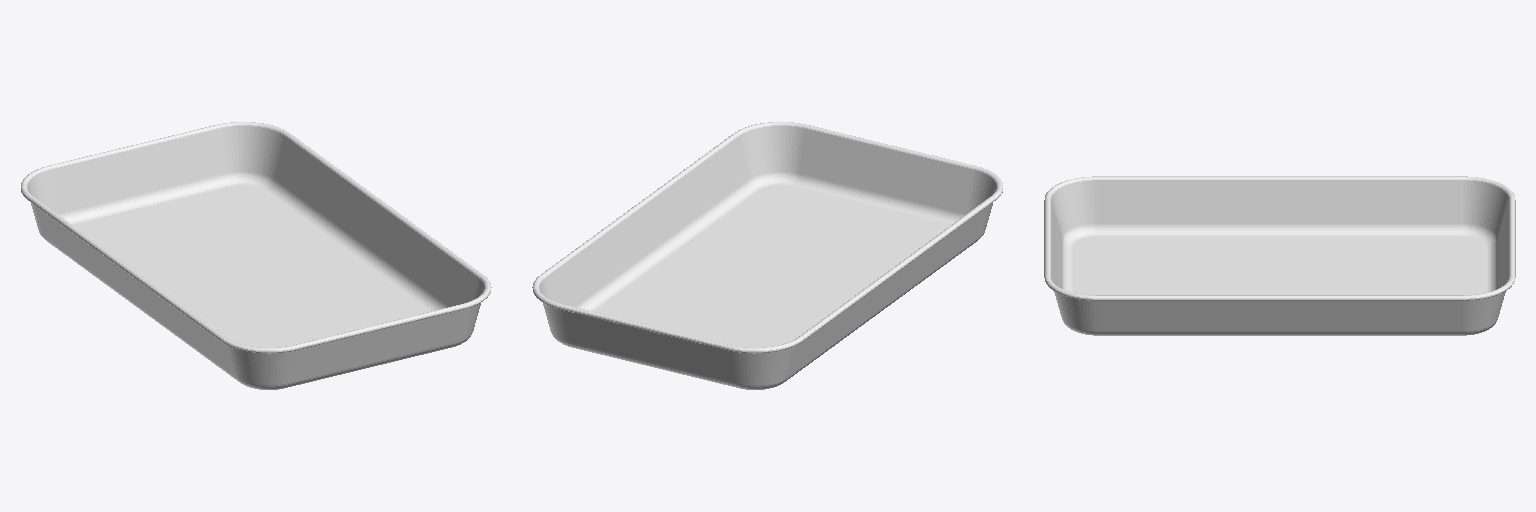
The robot description file, URDF, robot "tray":
<?xml version="0.0" ?>
<robot name="tray">
    <material name="white">
        <color rgba="0.95 0.95 0.95 1"/>
    </material>
    <material name="dummy">
        <color rgba="0 0 0 0"/>
    </material>

    <link name="baseLink">
        <contact>
            <lateral_friction value="1.0"/>
        </contact>
        <inertial>
            <origin rpy="0 0 0" xyz="0 0 0.000181"/>
            <mass value=".0"/>
            <inertia ixx="0" ixy="0" ixz="0" iyy="0" iyz="0" izz="0"/>
        </inertial>
        <visual>
            <origin rpy="0 0 0" xyz="0 0 0"/>
            <geometry>
                <mesh filename="meshes/tray.obj" scale="1 1 1"/>
            </geometry>
            <material name="white"/>
        </visual>
        <collision>
            <origin rpy="0 0 0" xyz="0 0 0.000181"/>
            <geometry>
                <box size="0.120 0.196 0.000362"/>
            </geometry>
        </collision>
    </link>

    <link name="border_1">
        <inertial>
            <origin rpy="0 0 0" xyz="0 0 0"/>
            <mass value=".0"/>
            <inertia ixx="0" ixy="0" ixz="0" iyy="0" iyz="0" izz="0"/>
        </inertial>
        <visual>
            <geometry>
                <box size="0 0 0"/>
            </geometry>
            <material name="dummy"/>
        </visual>
        <collision>
            <origin rpy="0 0 0" xyz="0 0 0"/>
            <geometry>
                <box size="0.120 0.003 0.022"/>
            </geometry>
        </collision>
    </link>

    <joint name="border_joint_1" type="fixed">
        <parent link="baseLink"/>
        <child link="border_1"/>
        <origin rpy="0 0 0" xyz="0 -0.095 0.011"/>
    </joint>

    <link name="border_2">
        <inertial>
            <origin rpy="0 0 0" xyz="0 0 0"/>
            <mass value=".0"/>
            <inertia ixx="0" ixy="0" ixz="0" iyy="0" iyz="0" izz="0"/>
        </inertial>
        <visual>
            <geometry>
                <box size="0 0 0"/>
            </geometry>
            <material name="dummy"/>
        </visual>
        <collision>
            <origin rpy="0 0 0" xyz="0 0 0"/>
            <geometry>
                <box size="0.120 0.003 0.022"/>
            </geometry>
        </collision>
    </link>

    <joint name="border_joint_2" type="fixed">
        <parent link="baseLink"/>
        <child link="border_2"/>
        <origin rpy="0 0 0" xyz="0 0.095 0.011"/>
    </joint>

    <link name="border_3">
        <inertial>
            <origin rpy="0 0 0" xyz="0 0 0"/>
            <mass value=".0"/>
            <inertia ixx="0" ixy="0" ixz="0" iyy="0" iyz="0" izz="0"/>
        </inertial>
        <visual>
            <geometry>
                <box size="0 0 0"/>
            </geometry>
            <material name="dummy"/>
        </visual>
        <collision>
            <origin rpy="0 0 0" xyz="0 0 0"/>
            <geometry>
                <box size="0.003 0.196 0.022"/>
            </geometry>
        </collision>
    </link>

    <joint name="border_joint_3" type="fixed">
        <parent link="baseLink"/>
        <child link="border_3"/>
        <origin rpy="0 0 0" xyz="-0.058 0 0.011"/>
    </joint>

    <link name="border_4">
        <inertial>
            <origin rpy="0 0 0" xyz="0 0 0"/>
            <mass value=".0"/>
            <inertia ixx="0" ixy="0" ixz="0" iyy="0" iyz="0" izz="0"/>
        </inertial>
        <visual>
            <geometry>
                <box size="0 0 0"/>
            </geometry>
            <material name="dummy"/>
        </visual>
        <collision>
            <origin rpy="0 0 0" xyz="0 0 0"/>
            <geometry>
                <box size="0.003 0.196 0.022"/>
            </geometry>
        </collision>
    </link>

    <joint name="border_joint_4" type="fixed">
        <parent link="baseLink"/>
        <child link="border_4"/>
        <origin rpy="0 0 0" xyz="0.058 0 0.011"/>
    </joint>
</robot>

--- Render facts (derived) ---
The picture shows the robot from 3 angles, left to right: view 1: azimuth 30°, elevation 25°; view 2: azimuth 150°, elevation 25°; view 3: azimuth 270°, elevation 25°; orthographic projection.
Robot: tray — 5 links, 4 joints (4 fixed); root link baseLink; default pose: every joint at zero.
Visible links, largest first — view 1: baseLink; view 2: baseLink; view 3: baseLink.
Link boxes in pixels (x1,y1,x2,y2): baseLink: [21, 122, 491, 389]; baseLink: [532, 122, 1002, 389]; baseLink: [1044, 176, 1515, 335].
Size in the robot's own frame: 0.12 by 0.1962 by 0.0228 metres.
Meshes: 1 distinct files referenced, 1 mesh visuals loaded (1 OBJ).